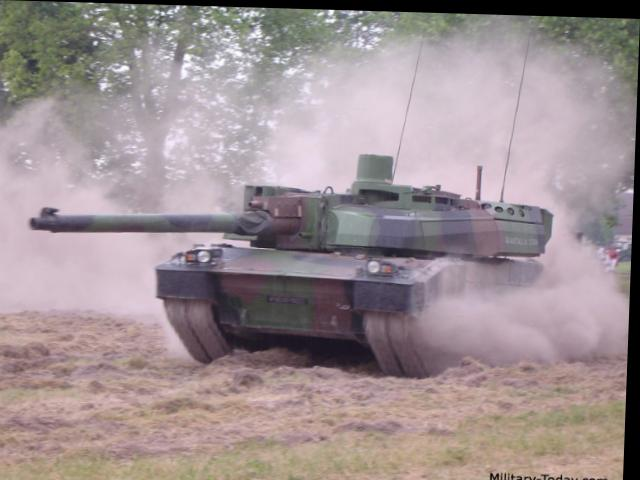tank: (150, 151, 577, 389)
